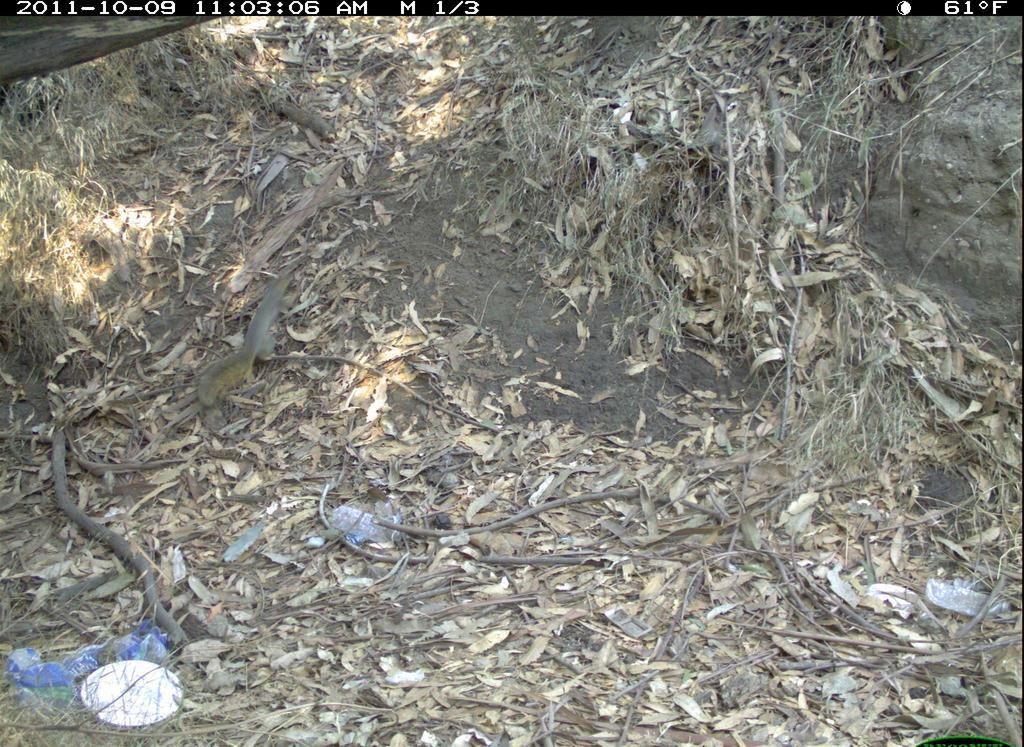squirrel: (184, 262, 332, 413)
